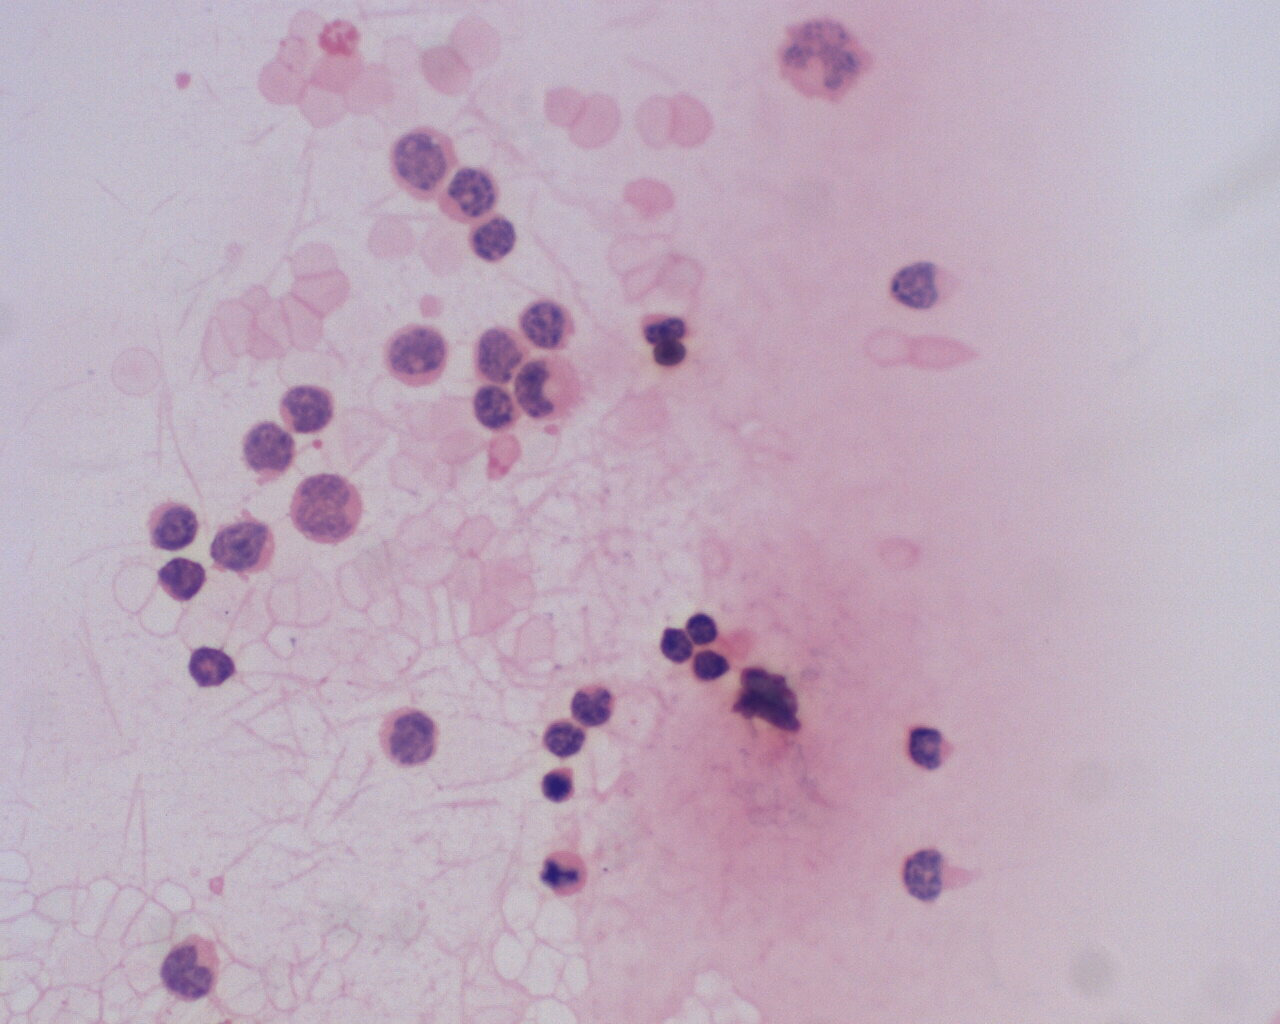ab: (287, 472, 371, 546), (385, 126, 455, 201), (373, 698, 439, 772), (377, 325, 453, 387), (156, 936, 224, 1003), (207, 517, 279, 578), (435, 165, 503, 225), (518, 295, 579, 355), (141, 495, 201, 552), (464, 213, 523, 265)
lymph: (656, 619, 695, 667), (683, 605, 726, 648)
neutro: (540, 766, 579, 806)
